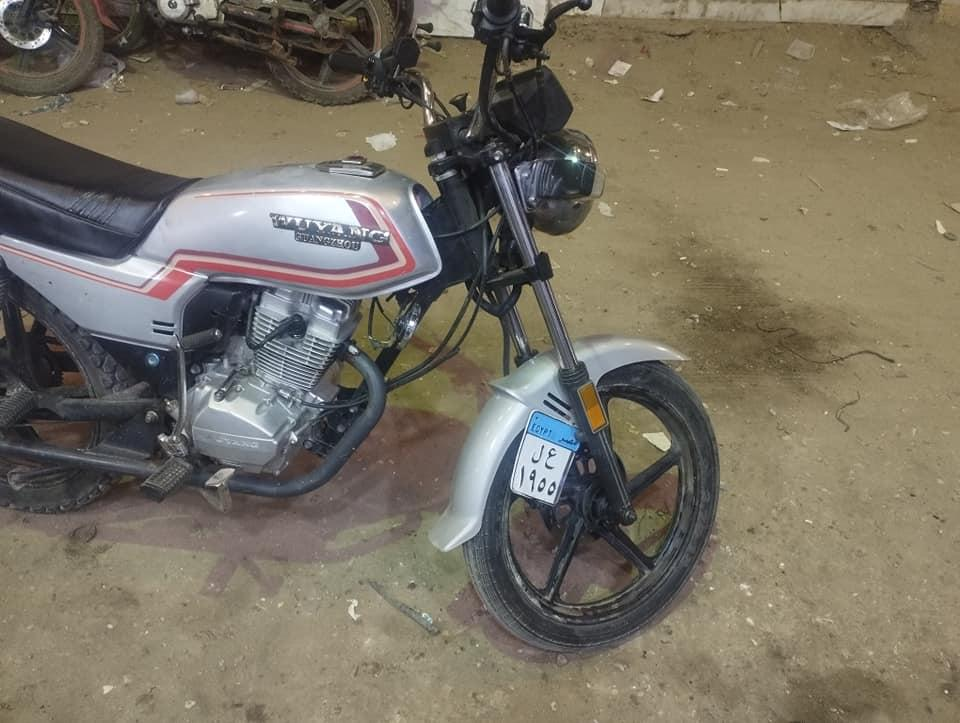License Plate: (509, 412, 582, 507)
